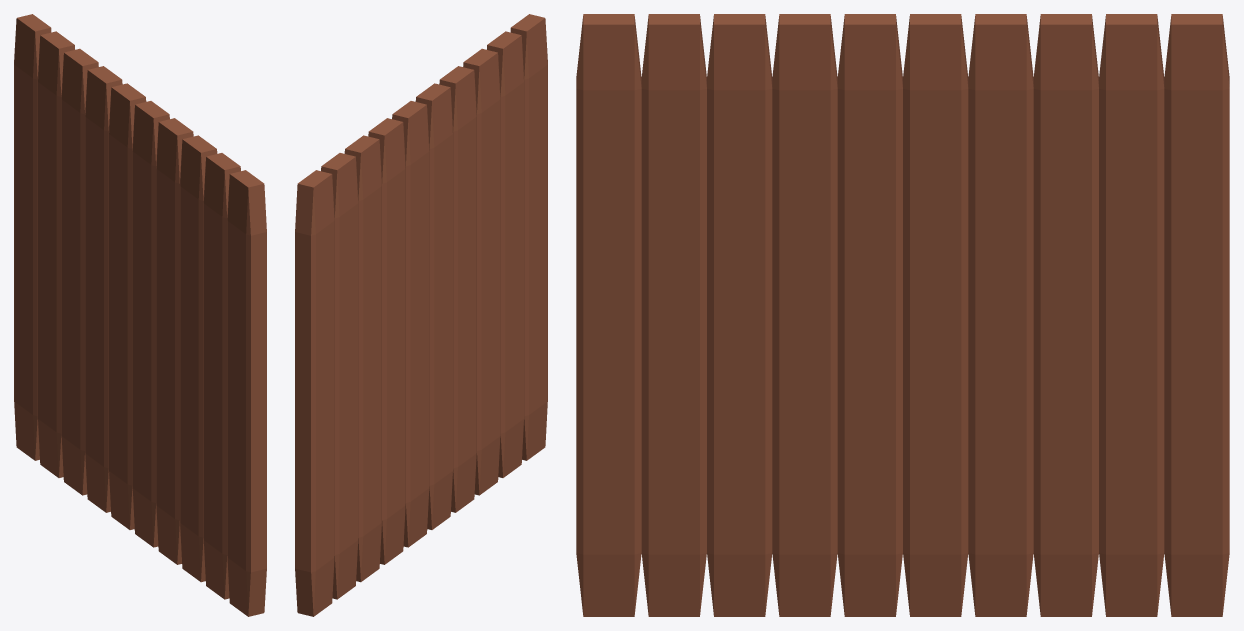
File: Wooden_Wall.fbx
3 views of the same model, side by side, from view 1: azimuth 30°, elevation 25°; view 2: azimuth 150°, elevation 25°; view 3: azimuth 270°, elevation 25° (orthographic). The views are drawn at different scales.
Visible parts, largest first — view 1: Wooden_Wall; view 2: Wooden_Wall; view 3: Wooden_Wall.
Part boxes in pixels (<box>): Wooden_Wall: <box>14,14,266,616</box>; Wooden_Wall: <box>295,14,547,616</box>; Wooden_Wall: <box>576,14,1229,616</box>.
Bounding box in the file's own units: 20 × 400 × 400.
